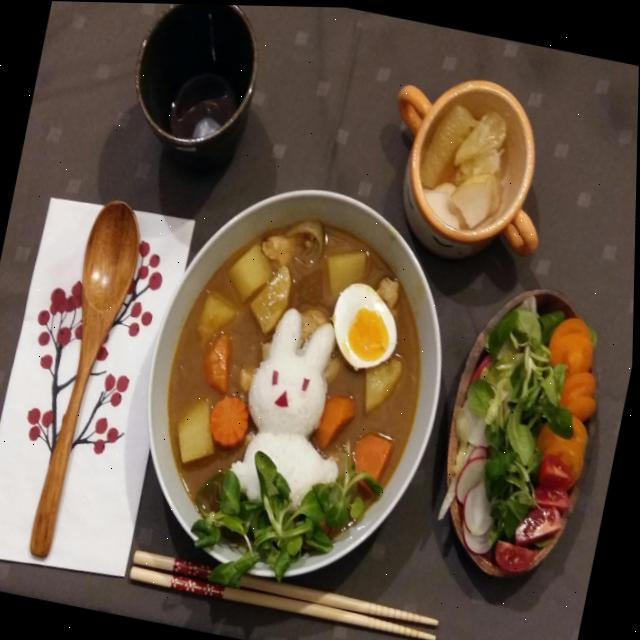Wet: (147, 205, 449, 543)
